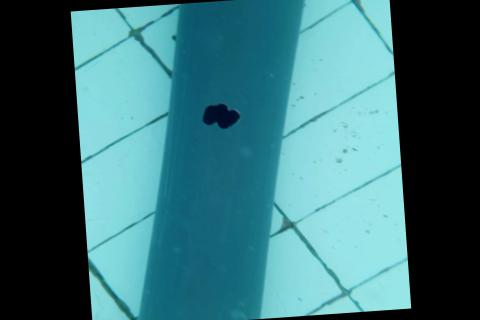kebocoran: (197, 99, 240, 132)
